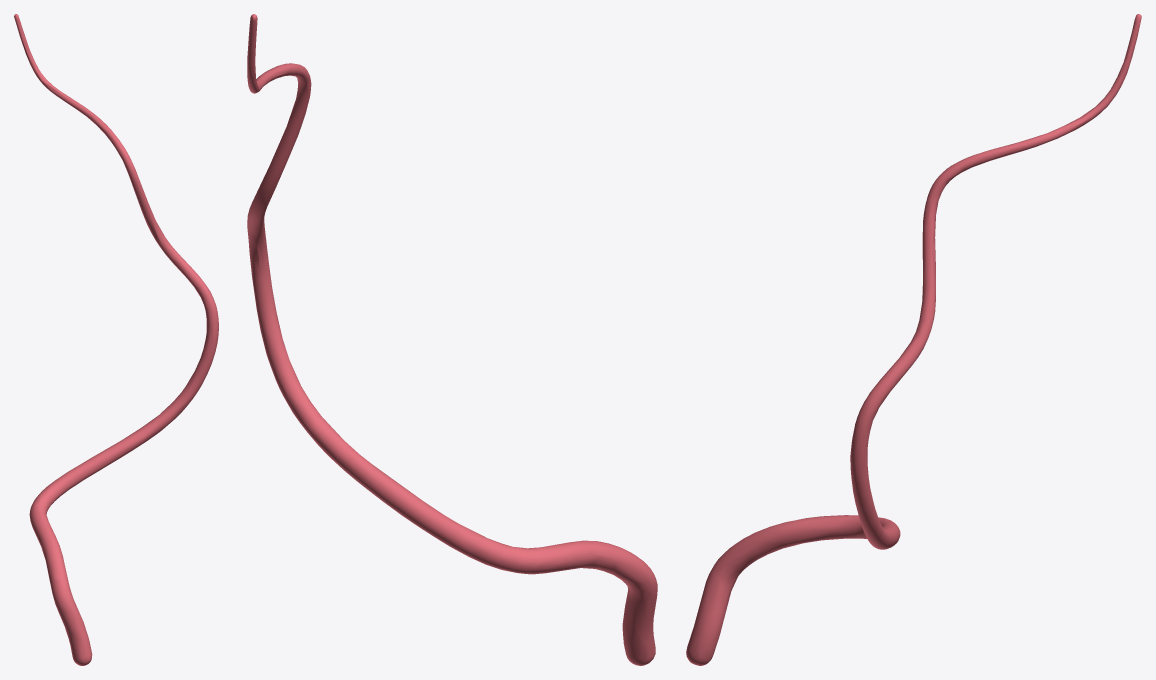
File: fma77439_fj5036m.glb
3 renders of one model, left to right at view 1: azimuth 30°, elevation 25°; view 2: azimuth 150°, elevation 25°; view 3: azimuth 270°, elevation 25°, orthographic. The views are drawn at different scales.
Parts seen in each view (by area): view 1: FMA77439_FJ5036M; view 2: FMA77439_FJ5036M; view 3: FMA77439_FJ5036M.
Part boxes in pixels (x1,y1,x2,y2): FMA77439_FJ5036M: (14,14,218,665); FMA77439_FJ5036M: (247,14,657,665); FMA77439_FJ5036M: (686,14,1141,665).
Bounding box in the file's own units: 0.0241 × 0.0558 × 0.0323.
